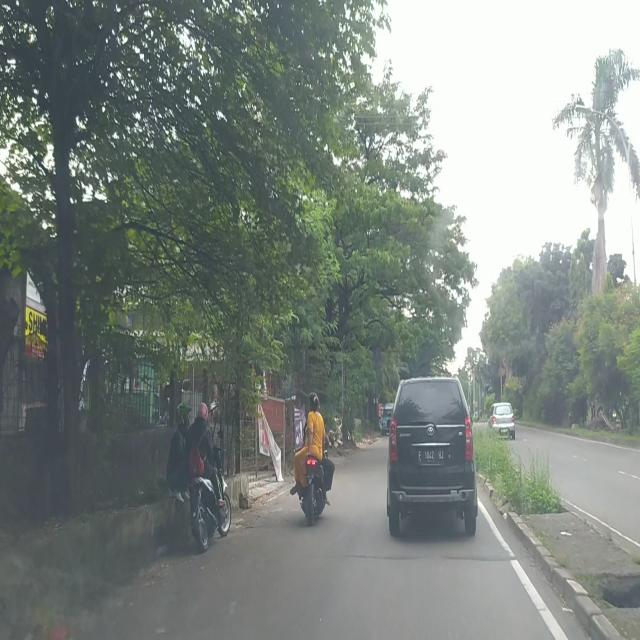Sewer Cover: (344, 549, 500, 563)
